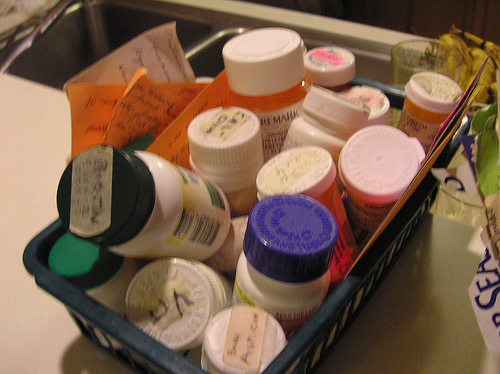pill bottle: (400, 70, 463, 150)
